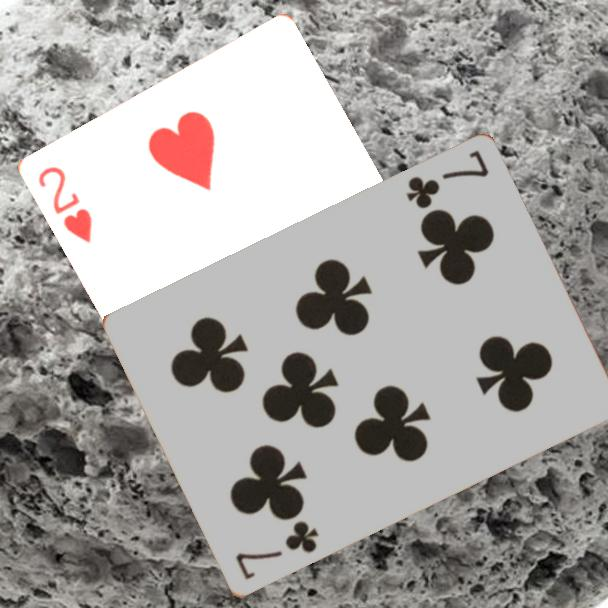c07: (232, 517, 322, 583), (402, 147, 492, 213)
h02: (35, 163, 96, 246)
